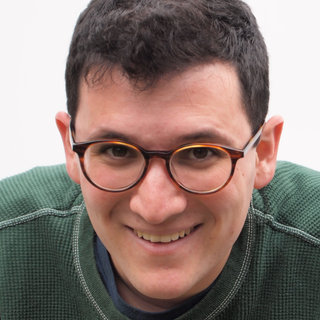eye: (167, 132, 232, 169), (90, 138, 140, 167)
